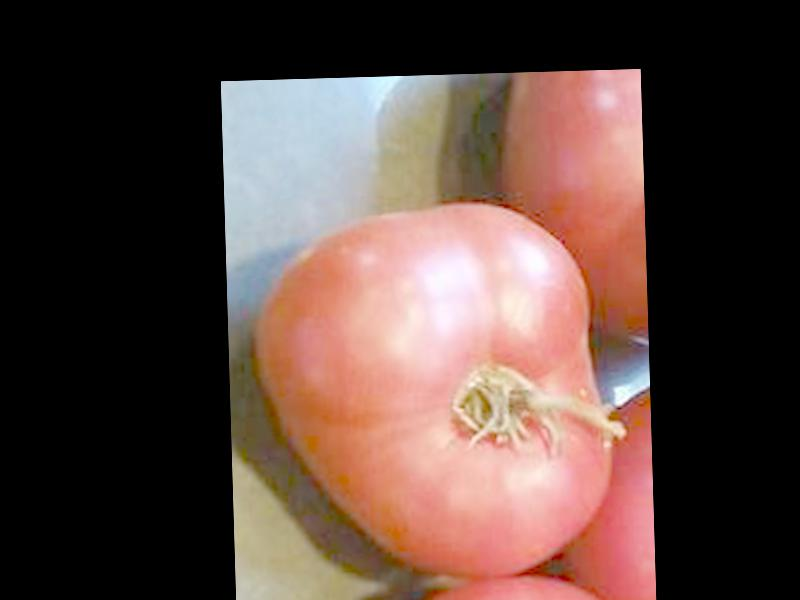Tomato: (254, 199, 614, 581)
